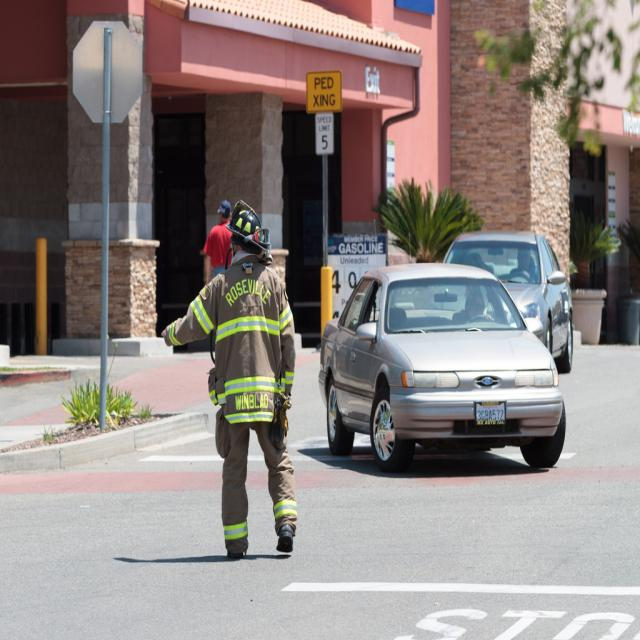no_fire: (62, 48, 590, 567)
